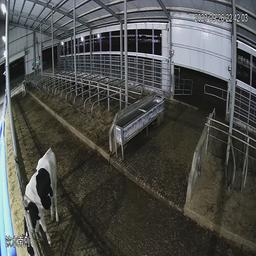cow: (21, 147, 60, 252), (68, 78, 88, 95), (21, 77, 30, 99)
